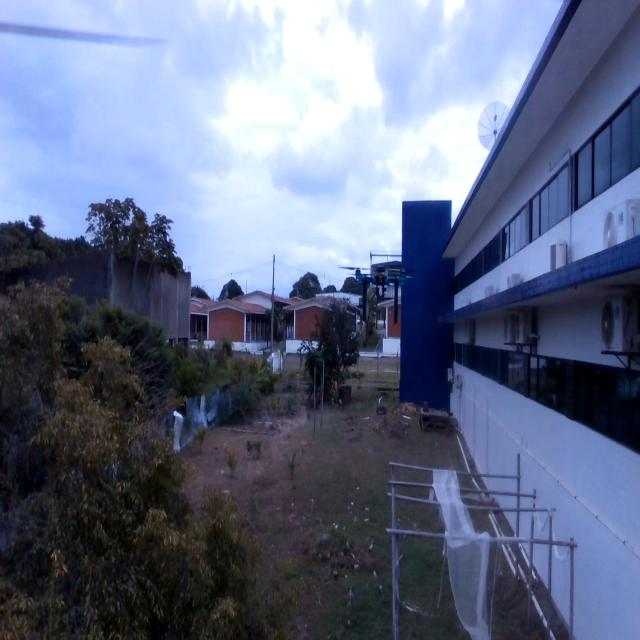-uav-: (332, 238, 436, 334)
